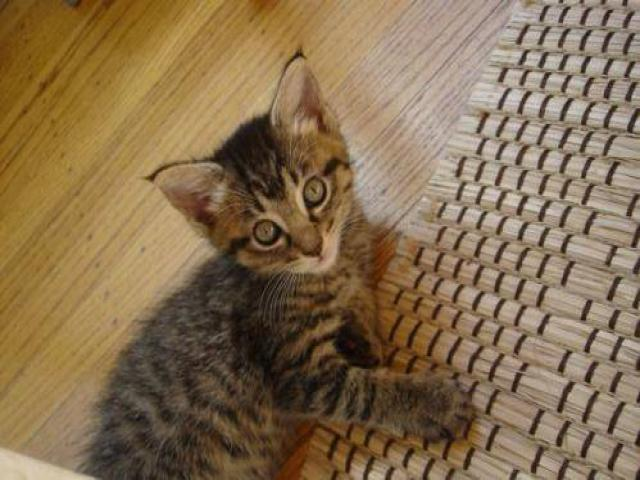cat: (64, 56, 469, 474)
